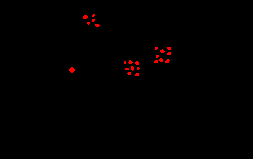Target: (69, 67, 75, 73), (83, 15, 88, 19), (160, 49, 165, 53), (165, 59, 170, 63), (128, 60, 133, 64), (159, 58, 163, 62), (135, 61, 139, 65), (95, 24, 100, 27), (131, 66, 134, 71), (167, 47, 171, 50), (167, 52, 171, 55), (154, 60, 158, 63), (127, 72, 131, 75), (135, 73, 139, 76), (92, 14, 95, 17), (92, 19, 95, 22), (87, 22, 90, 25), (155, 47, 158, 50), (156, 55, 159, 58), (137, 67, 140, 70), (125, 68, 129, 70), (124, 61, 126, 64)
